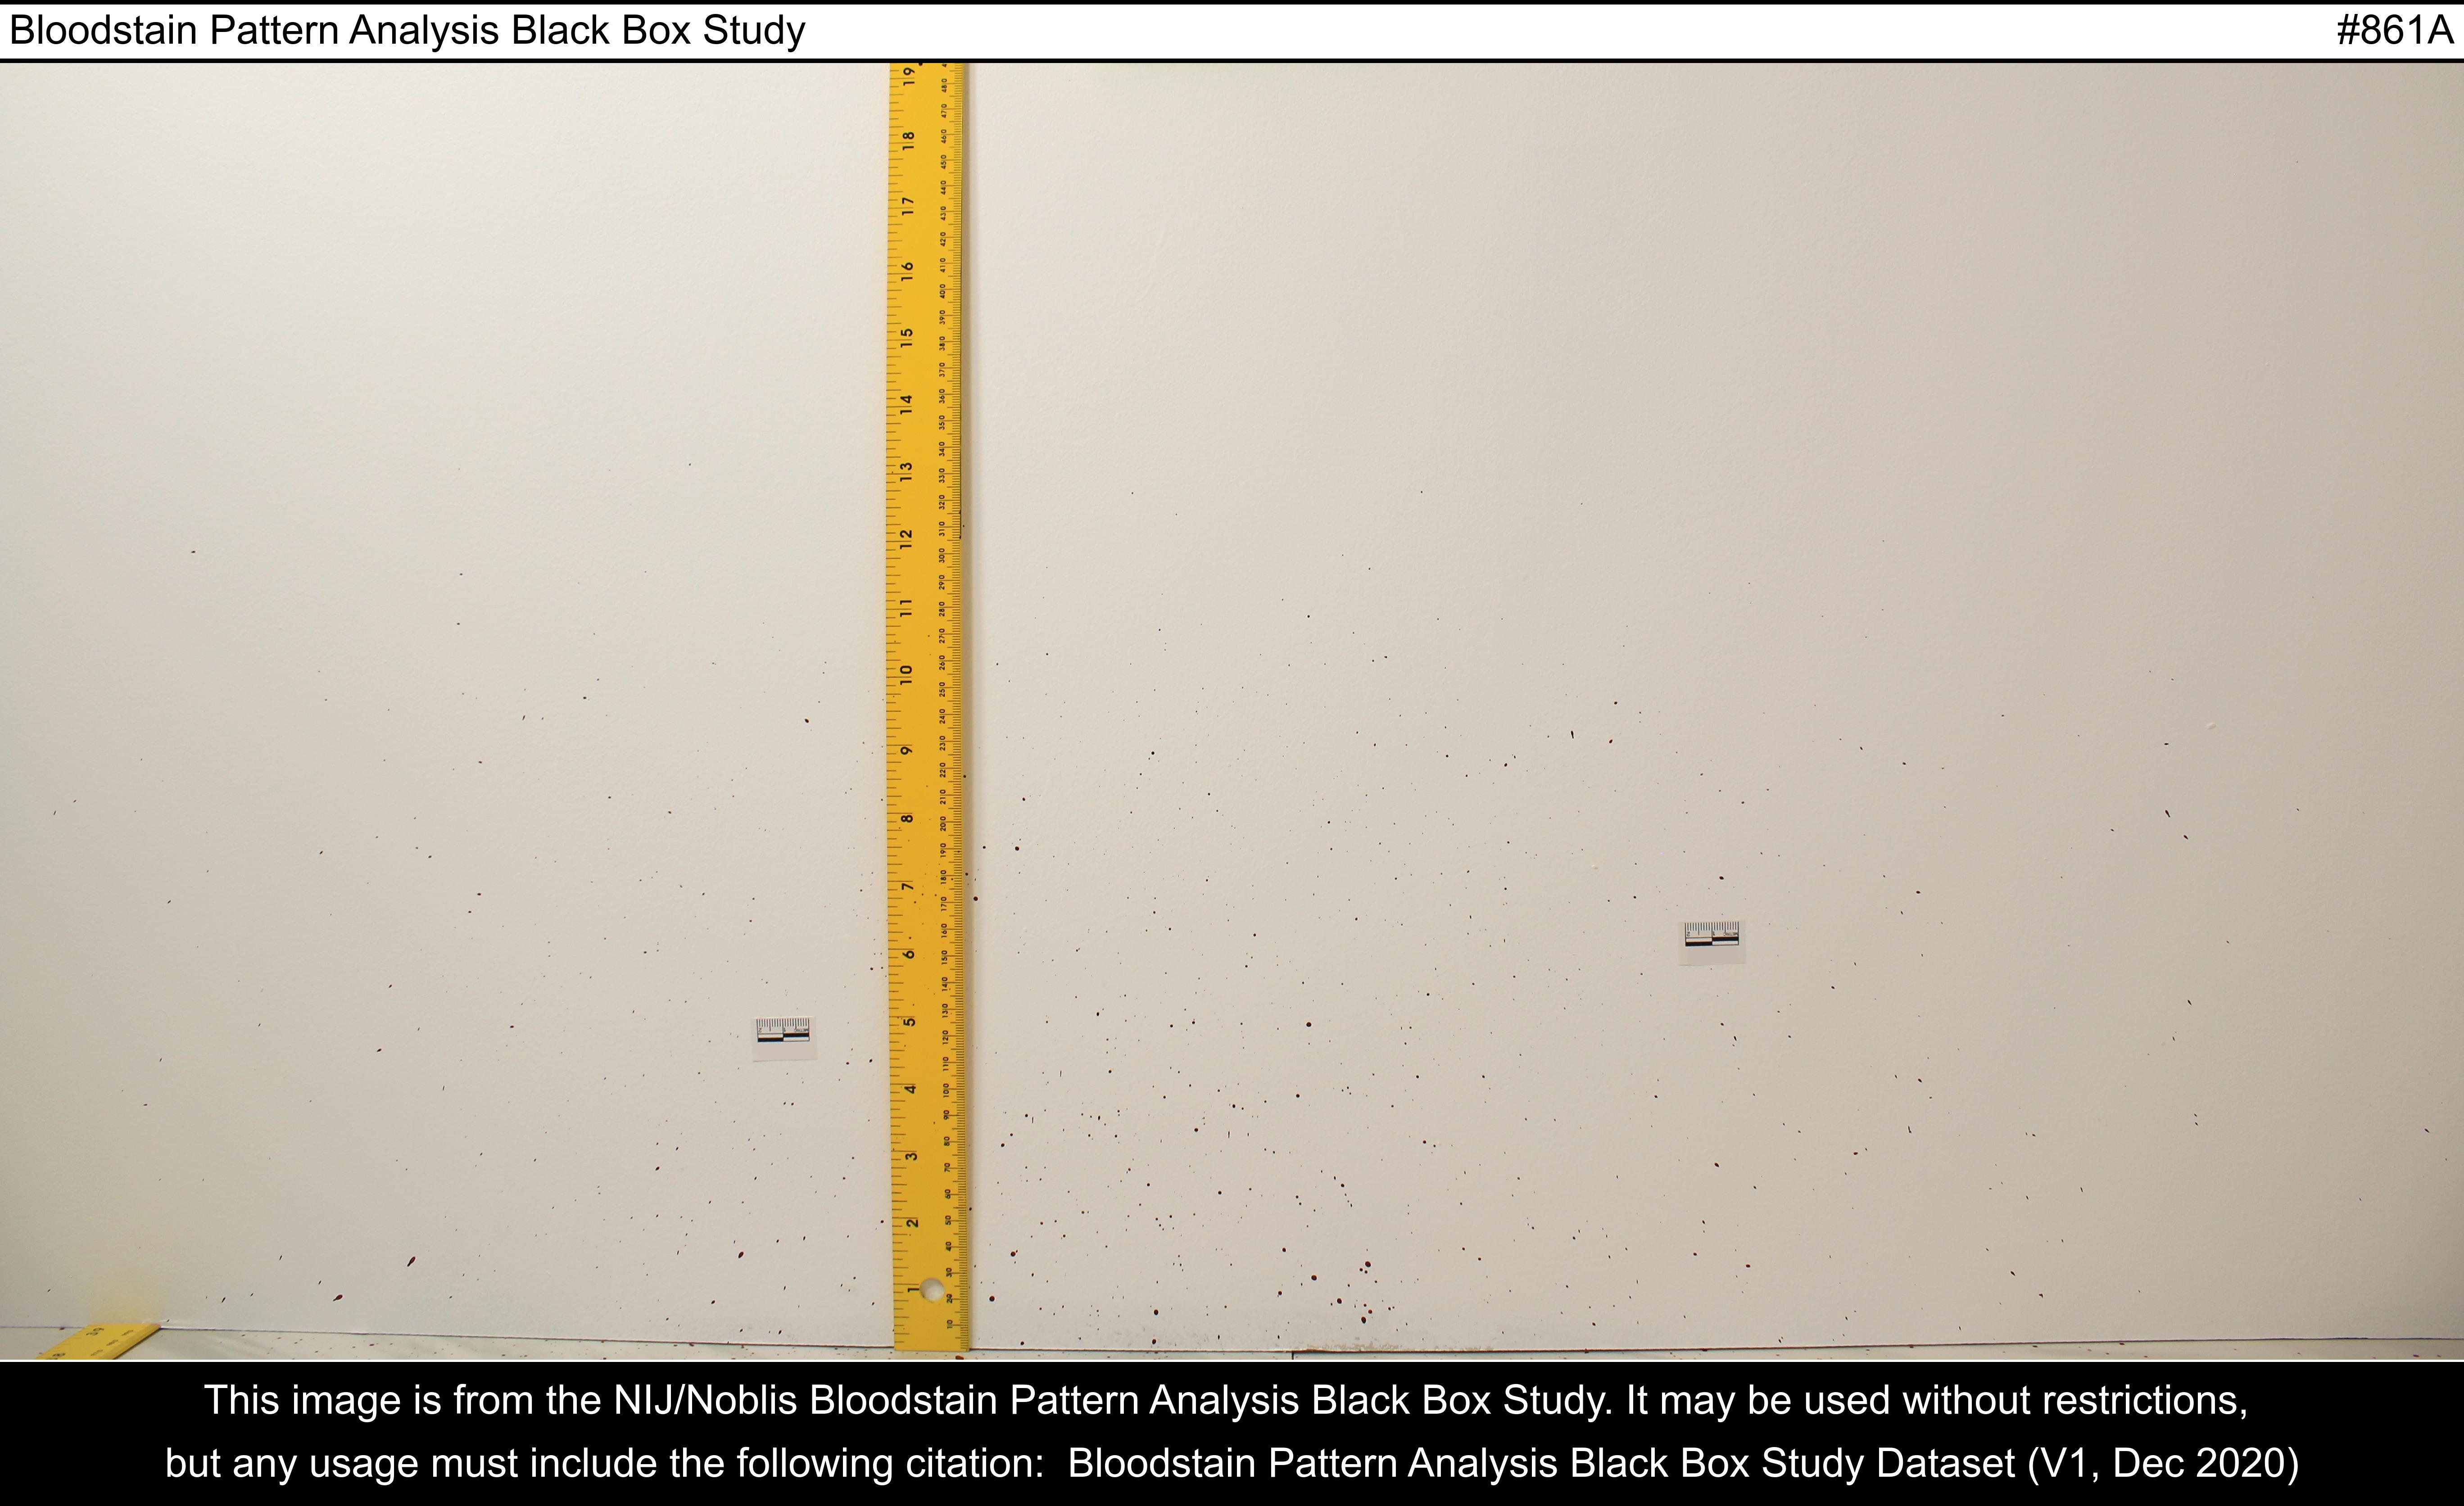Impact: (973, 711, 2216, 1344)
